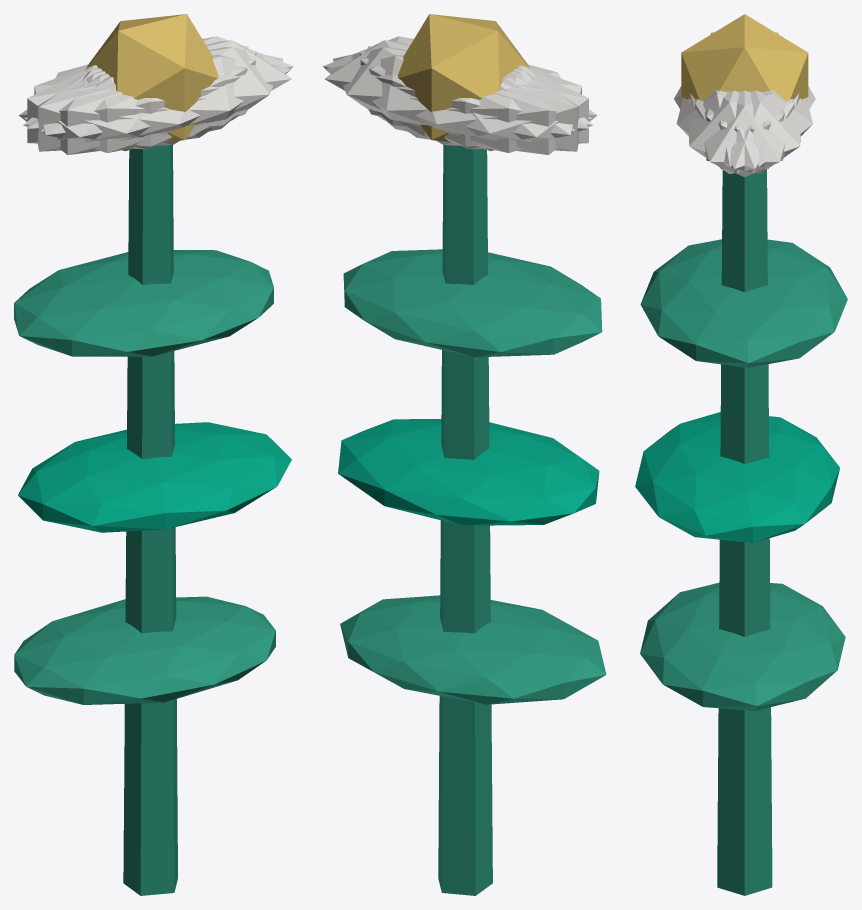
The model's file is citrus-microcarpa.glb.
3 views of the same model, side by side, from view 1: azimuth 30°, elevation 25°; view 2: azimuth 150°, elevation 25°; view 3: azimuth 270°, elevation 25° (orthographic).
Parts seen in each view (by area): view 1: stem, leaf1, leaf2, leaf0, center, petal1, petal6, petal2, petal5, petal7, petal0, petal4 (+2 smaller); view 2: stem, leaf2, leaf0, leaf1, center, petal8, petal3, petal7, petal4, petal2, petal0, petal5 (+2 smaller); view 3: stem, leaf2, leaf1, leaf0, center, petal0, petal5, petal4, petal8, petal1.
Boxes of the visible parts, left/top/right/bottom form: stem: left=123, top=145, right=177, bottom=895; leaf1: left=18, top=422, right=291, bottom=532; leaf2: left=14, top=250, right=273, bottom=356; leaf0: left=14, top=596, right=275, bottom=704; center: left=86, top=14, right=218, bottom=142; petal1: left=23, top=54, right=290, bottom=152; petal6: left=18, top=66, right=212, bottom=154; petal2: left=37, top=46, right=248, bottom=151; petal5: left=41, top=47, right=283, bottom=146; petal7: left=27, top=52, right=256, bottom=149; petal0: left=86, top=40, right=291, bottom=136; petal4: left=24, top=36, right=293, bottom=128; stem: left=438, top=145, right=492, bottom=895; leaf2: left=343, top=249, right=602, bottom=357; leaf0: left=340, top=595, right=606, bottom=704; leaf1: left=338, top=419, right=599, bottom=525; center: left=397, top=14, right=529, bottom=142; petal8: left=325, top=54, right=593, bottom=152; petal3: left=403, top=66, right=597, bottom=154; petal7: left=367, top=46, right=578, bottom=151; petal4: left=333, top=47, right=574, bottom=146; petal2: left=360, top=52, right=588, bottom=149; petal0: left=324, top=40, right=529, bottom=136; petal5: left=323, top=36, right=591, bottom=128; stem: left=717, top=170, right=772, bottom=895; leaf2: left=640, top=239, right=847, bottom=367; leaf1: left=635, top=412, right=839, bottom=542; leaf0: left=640, top=583, right=845, bottom=710; center: left=681, top=14, right=808, bottom=100; petal0: left=690, top=90, right=799, bottom=177; petal5: left=688, top=90, right=794, bottom=173; petal4: left=695, top=90, right=800, bottom=173; petal8: left=704, top=90, right=812, bottom=166; petal1: left=676, top=90, right=784, bottom=166.
Bounding box in the file's own units: 0.1497 × 0.4534 × 0.1025.
